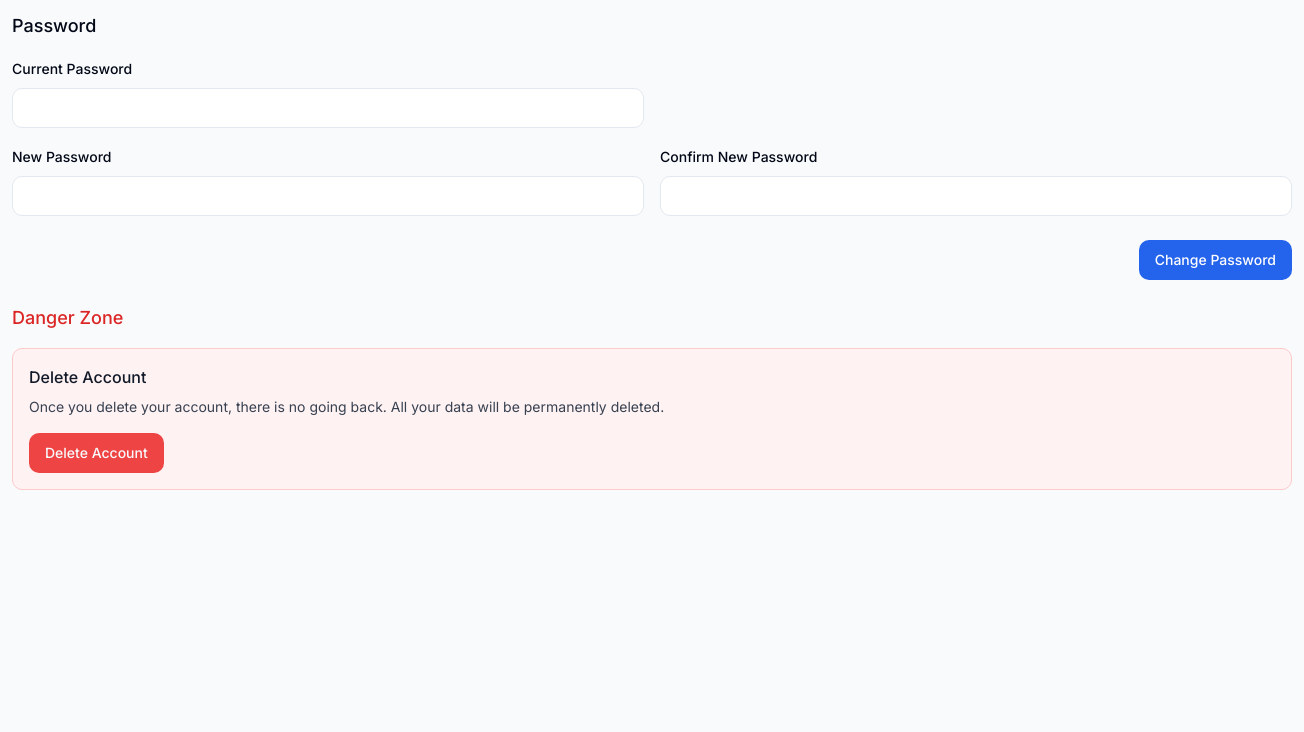
Test: AccountSection — password match indicator › marks the confirm input aria-invalid when passwords differ
Step 1. Type "passA1234" into the password field with id "newPassword" → (328, 196), box left=12, top=176, right=644, bottom=216
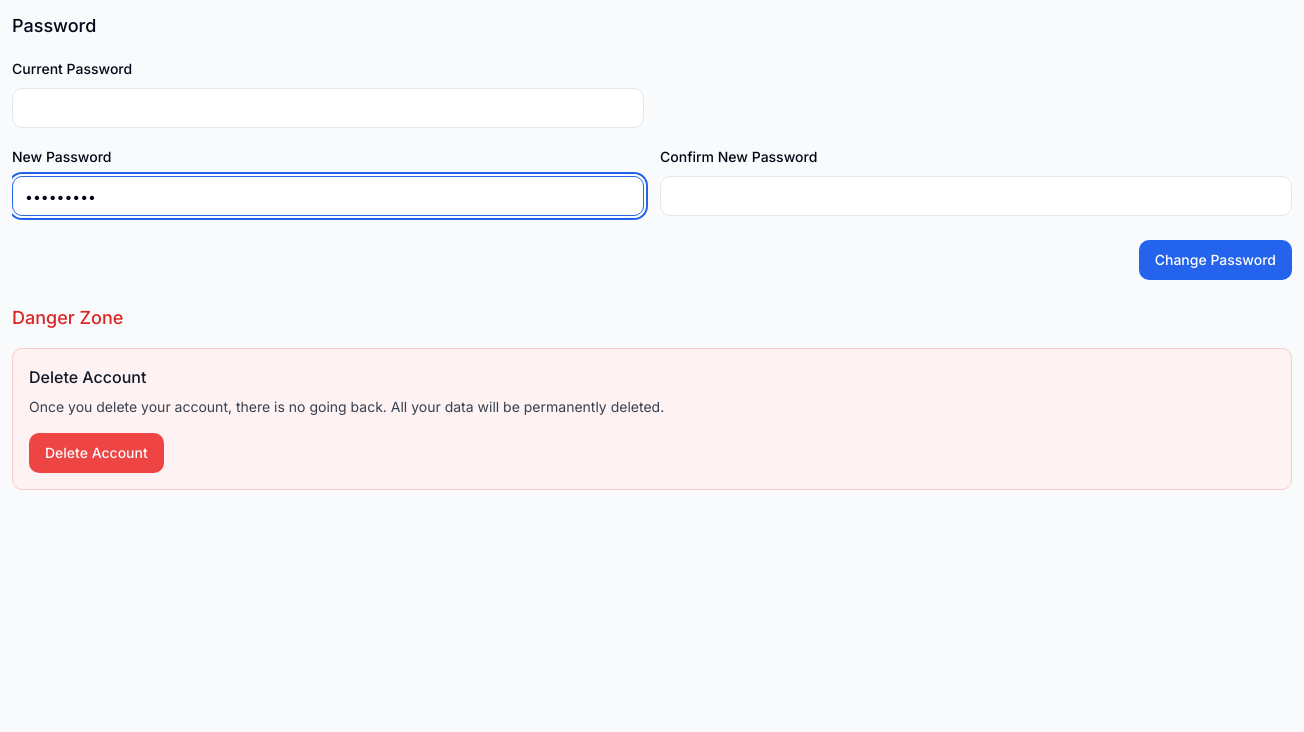
Step 2. Type "passB5678" into the password field labelled "Confirm New Password" → (976, 196), box left=660, top=176, right=1292, bottom=216
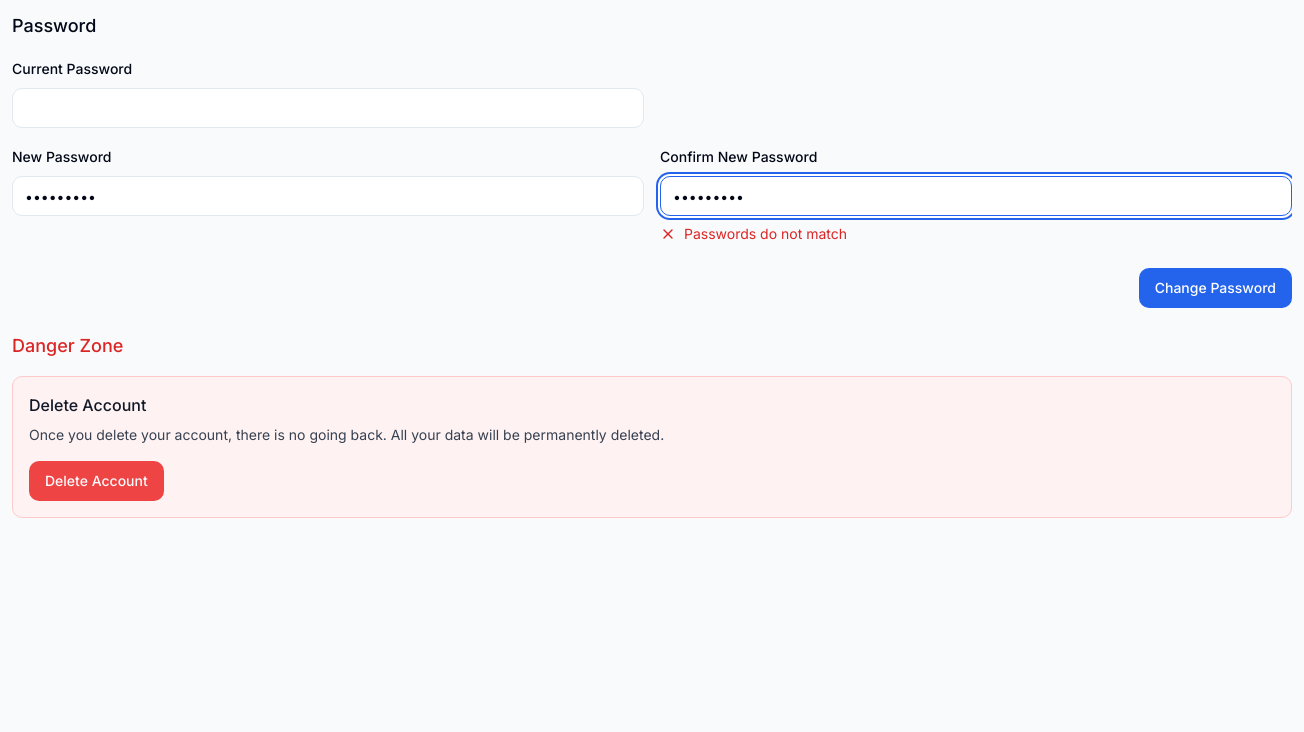
Check: the message "Passwords do not match" is shown, box left=660, top=225, right=847, bottom=242
